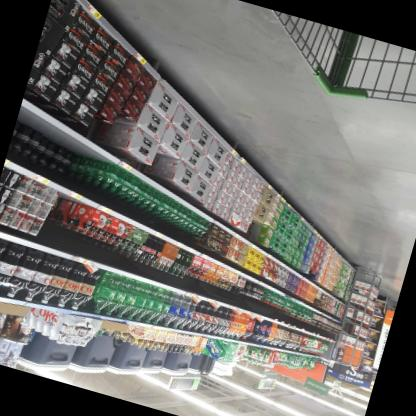empty_space: (23, 118, 114, 157), (54, 194, 80, 222), (245, 279, 256, 287)
